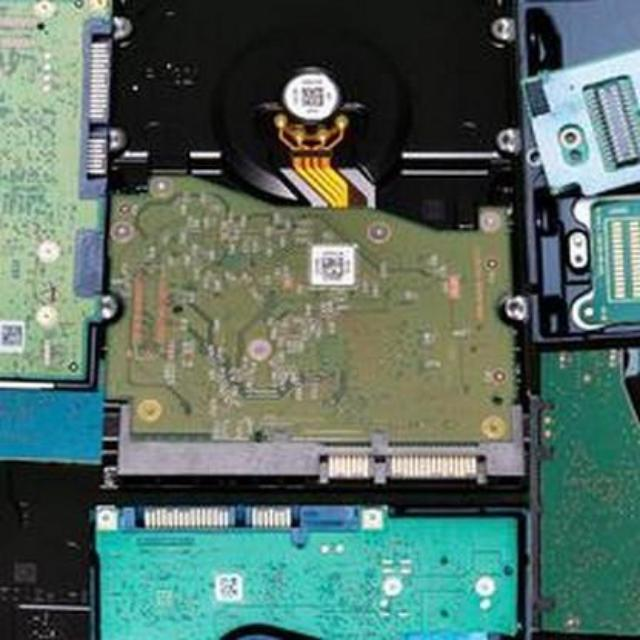DISK: (71, 0, 546, 506)
